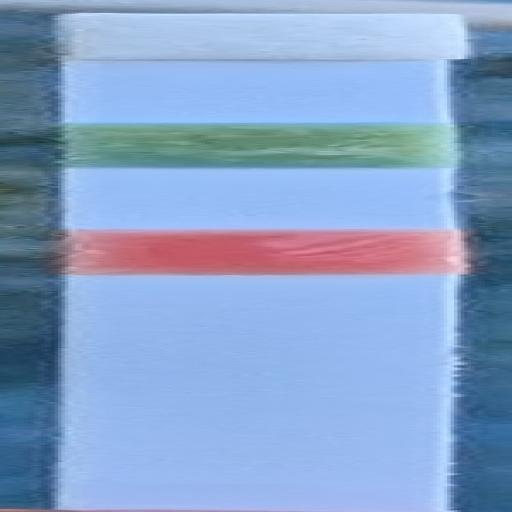pads: (48, 12, 468, 61), (54, 228, 468, 277), (62, 122, 454, 168)
